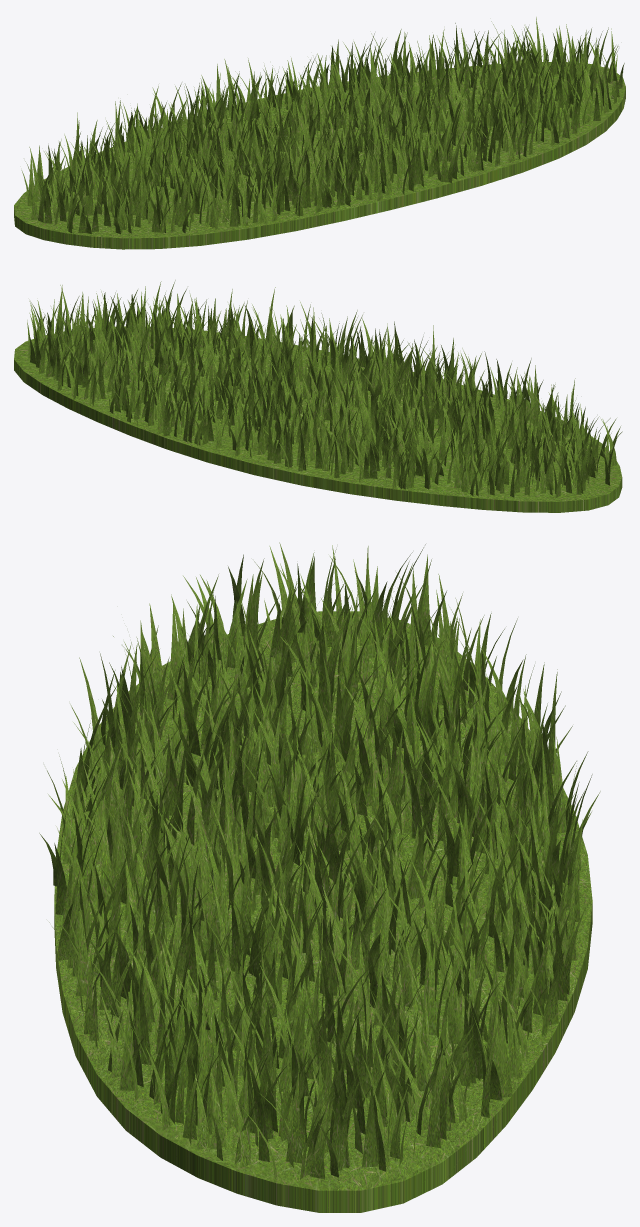
File: Turf_Strip.fbx
3 views of the same model, one above another, from view 1: azimuth 30°, elevation 25°; view 2: azimuth 150°, elevation 25°; view 3: azimuth 270°, elevation 25° (orthographic). The views are drawn at different scales.
Parts seen in each view (by area): view 1: Turf_Strip; view 2: Turf_Strip; view 3: Turf_Strip.
Boxes of the visible parts, x1,y1,x2,y2 form: Turf_Strip: [14, 17, 625, 249]; Turf_Strip: [14, 280, 622, 512]; Turf_Strip: [39, 542, 600, 1212].
Bounding box in the file's own units: 1.4 × 0.14 × 0.5749.
Materials: 1 (1 with a texture image).
